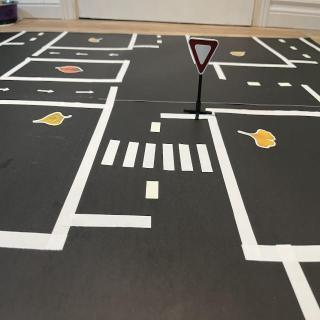road_crosswalk: (96, 135, 218, 176)
road_oneway: (36, 88, 57, 97), (76, 89, 96, 97), (1, 85, 12, 95), (76, 52, 90, 59), (49, 51, 62, 57), (109, 52, 122, 58)
sign_yield: (190, 39, 220, 75)
